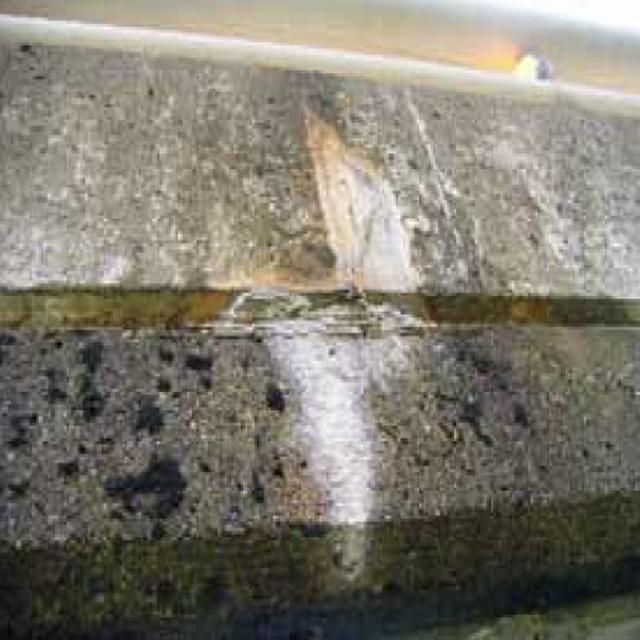freelime: (254, 115, 416, 574)
